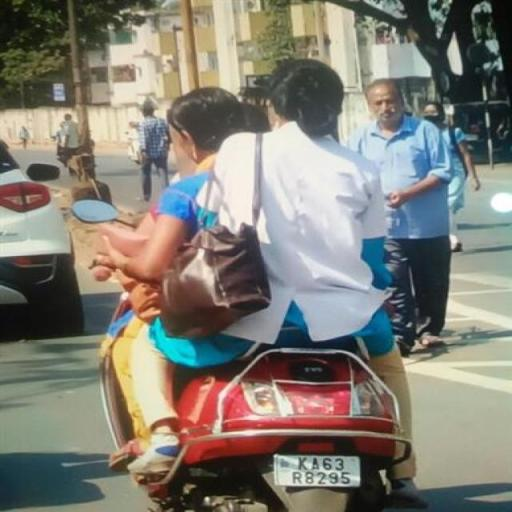tripple riding: (73, 56, 396, 334)
